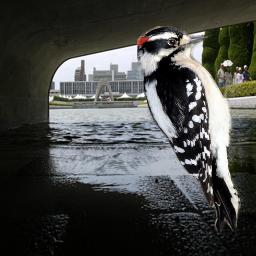Woodpecker: (137, 26, 242, 234)
